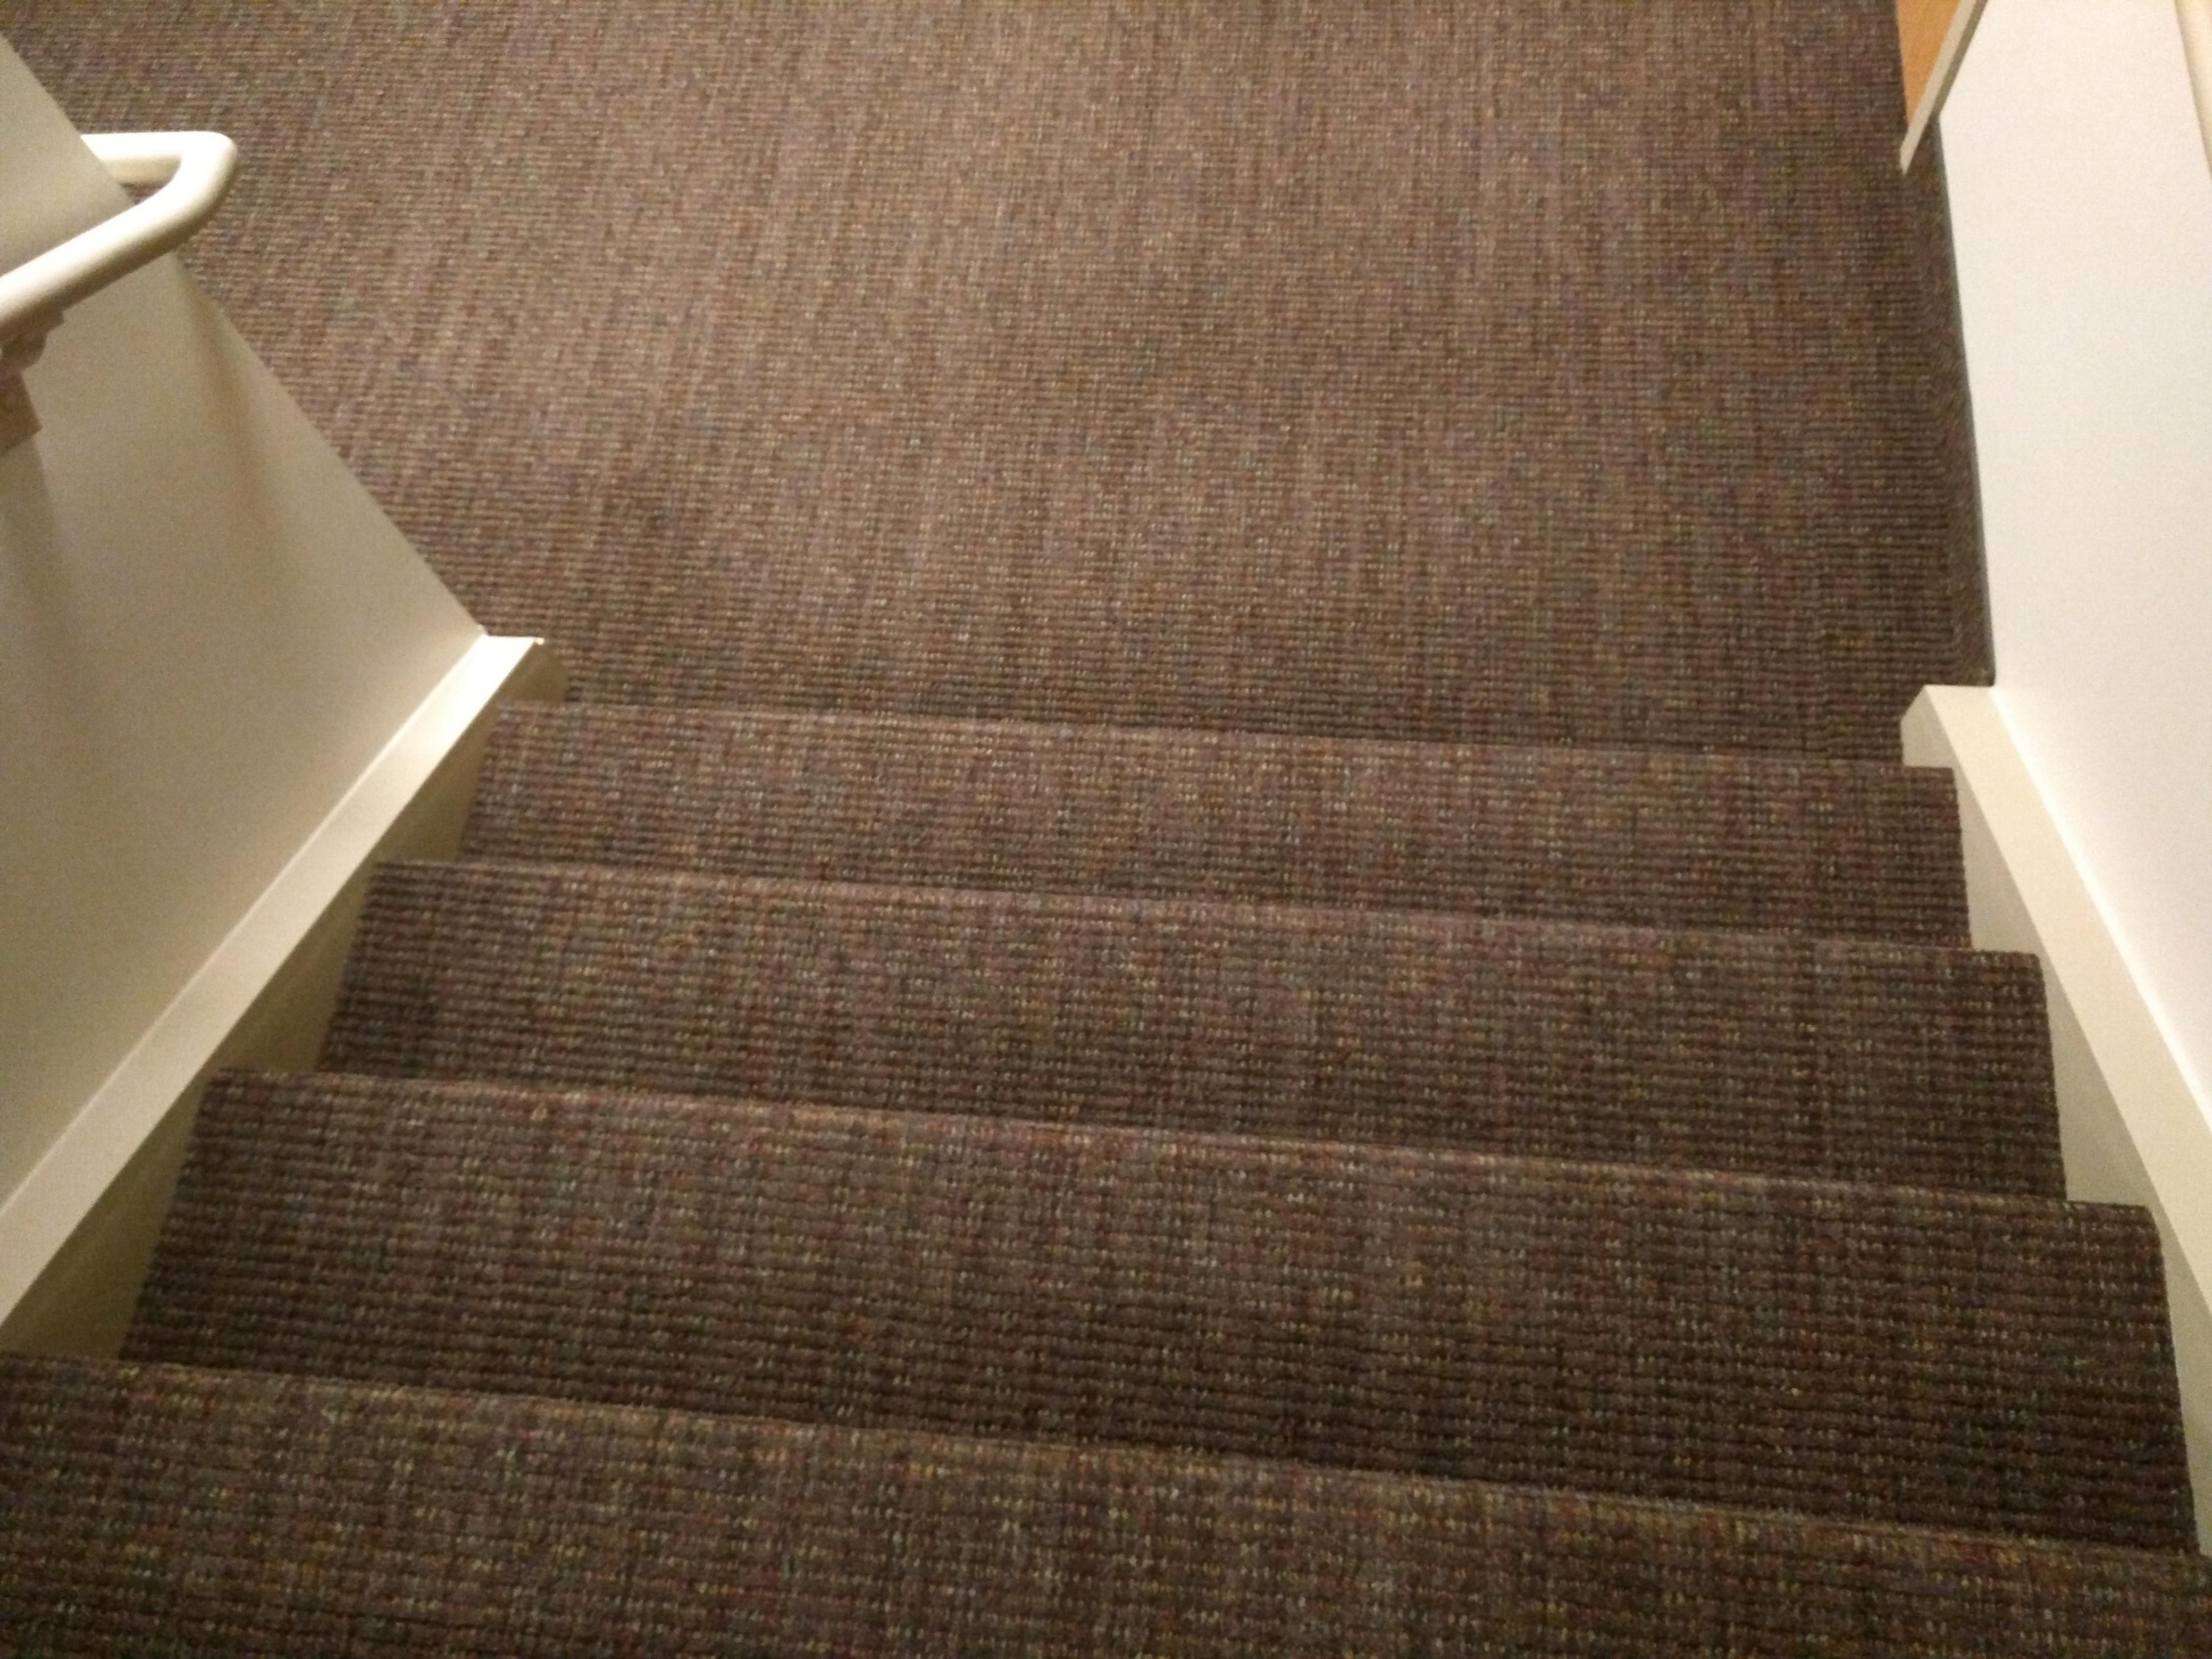stairs_down: (56, 551, 2198, 1600)
